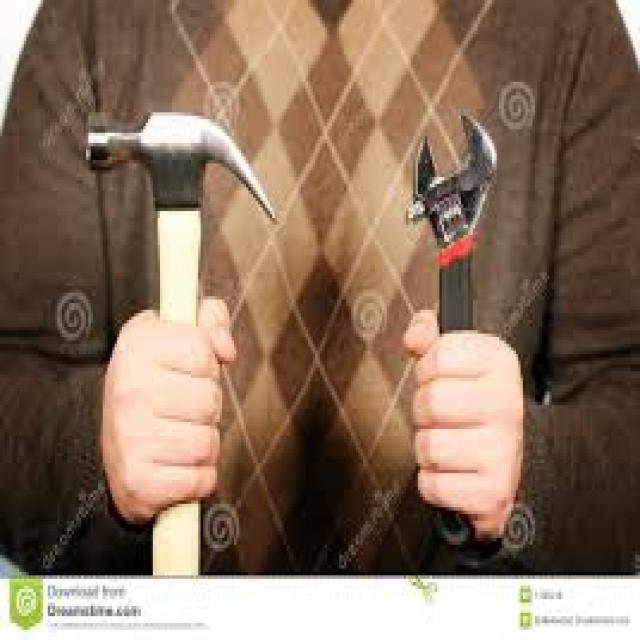hammer: (84, 97, 282, 591)
